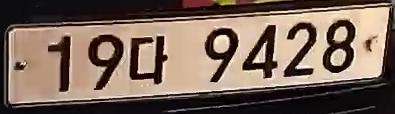1: (44, 33, 78, 95)
2: (281, 18, 320, 78)
4: (241, 21, 281, 80)
8: (320, 16, 359, 75)
9: (199, 25, 242, 84), (85, 32, 126, 92)
다: (125, 34, 170, 86)
